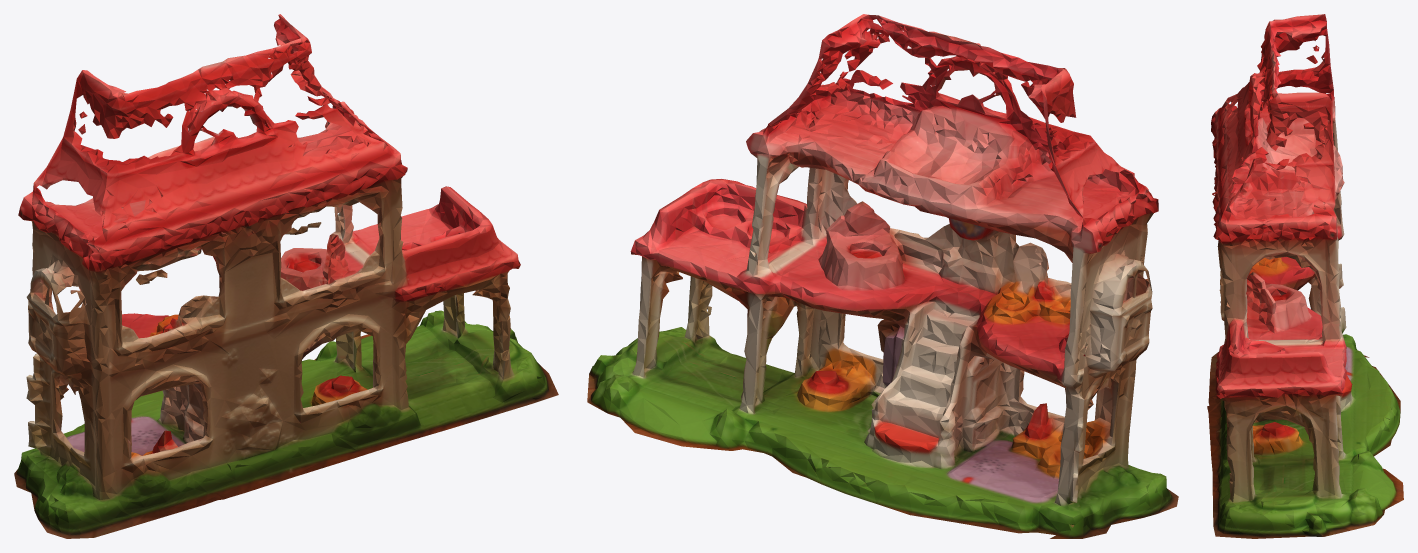
The model's file is pink_house_no_floor_103k_faces_decimated15p.fbx.
3 renders of one model, left to right at view 1: azimuth 30°, elevation 25°; view 2: azimuth 150°, elevation 25°; view 3: azimuth 270°, elevation 25°, orthographic. The views are drawn at different scales.
Visible parts, largest first — view 1: Model; view 2: Model; view 3: Model.
Boxes of the visible parts, x1,y1,x2,y2 form: Model: (14, 14, 558, 538); Model: (587, 14, 1178, 538); Model: (1207, 14, 1403, 538).
Bounding box in the file's own units: 5.61 × 4.37 × 2.09.
